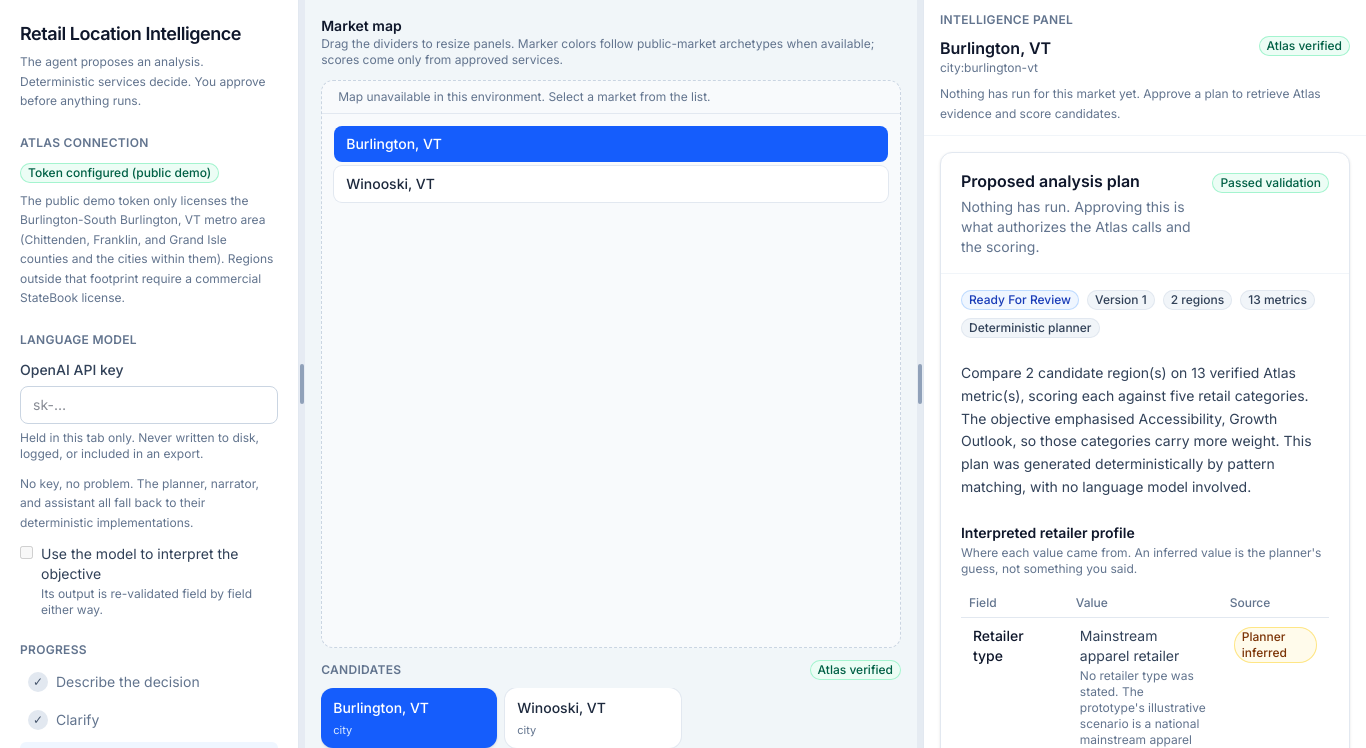
the map-first workspace › lists candidate markets and updates the intelligence panel on selection
Check: the list named "Candidate markets" is shown, box [321,80,901,648]
Check: the heading "Burlington, VT" is shown, box [940,36,1051,60]
Click the option "Winooski, VT".
click(391, 184)  # box [334,166,888,202]
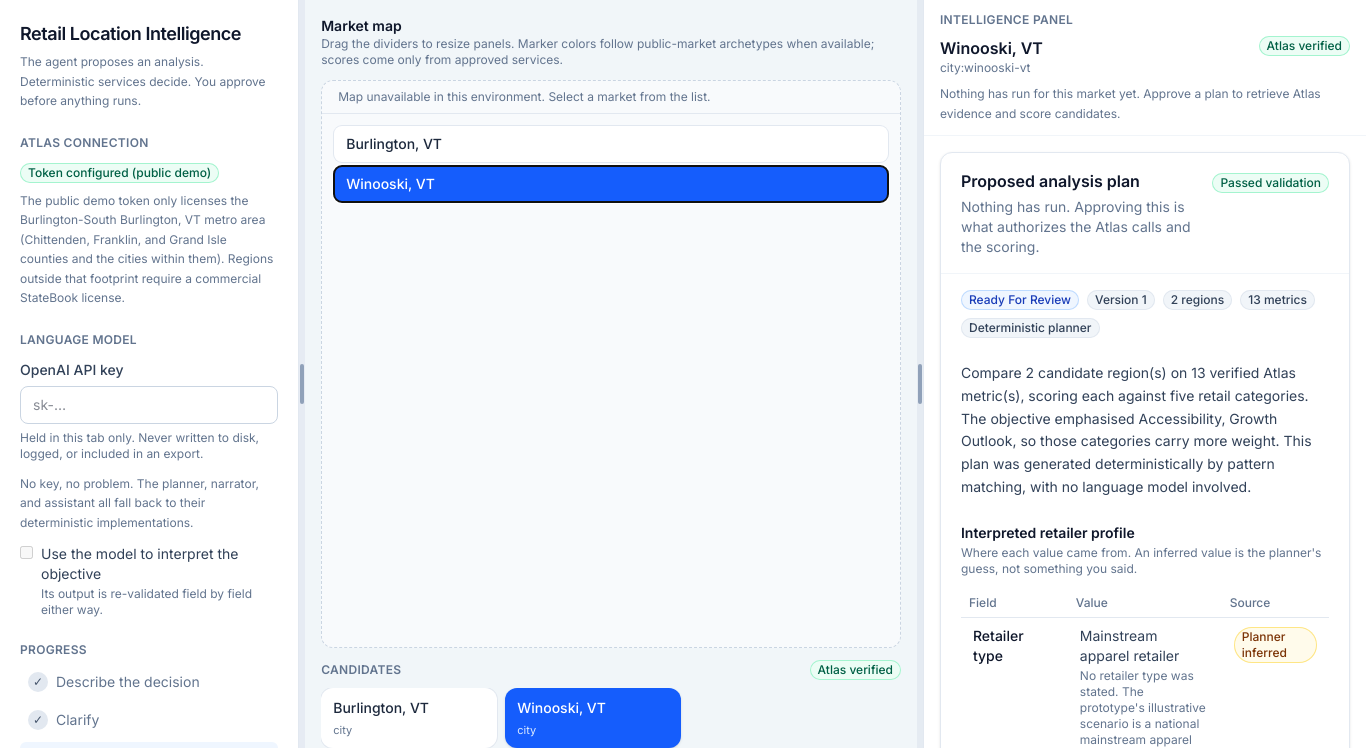
Check: the heading "Winooski, VT" is shown, box [940,36,1043,60]
